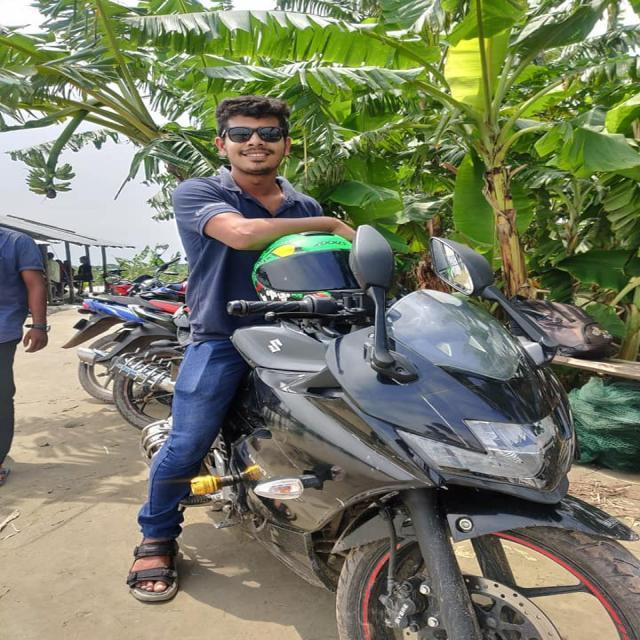No helmet: (201, 102, 319, 183)
